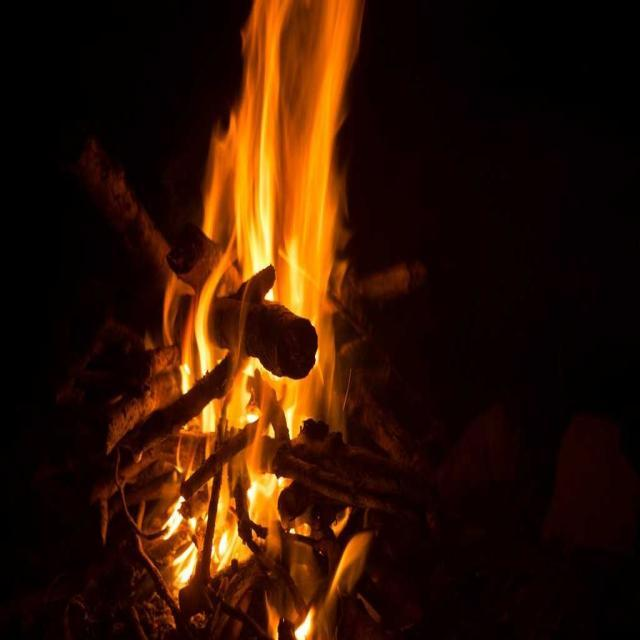Fire: (247, 13, 337, 264), (244, 363, 328, 438), (210, 137, 242, 243), (280, 270, 336, 324), (188, 305, 218, 368), (164, 526, 194, 583), (222, 475, 240, 566), (247, 471, 277, 524), (202, 406, 240, 436)
